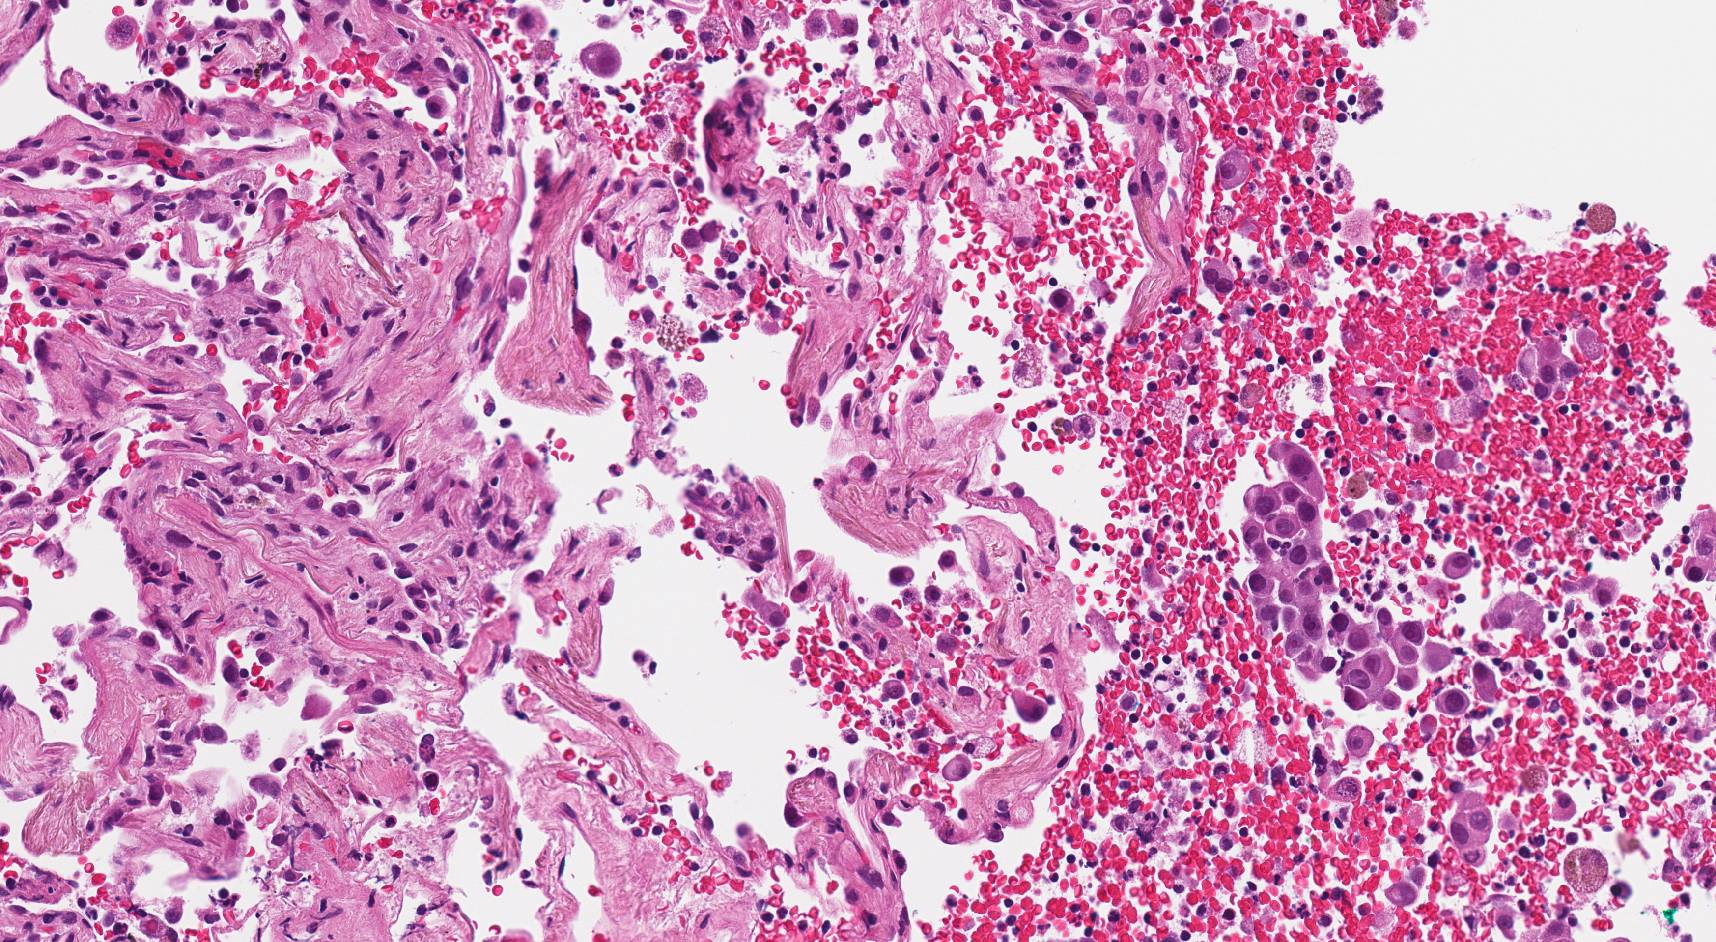stas: (1238, 440, 1428, 713), (1445, 792, 1493, 866), (1530, 339, 1579, 398)
